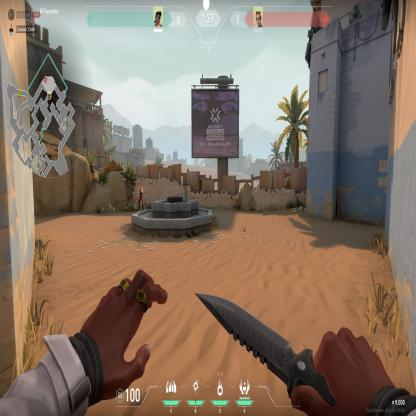enemy: (137, 183, 144, 212)
